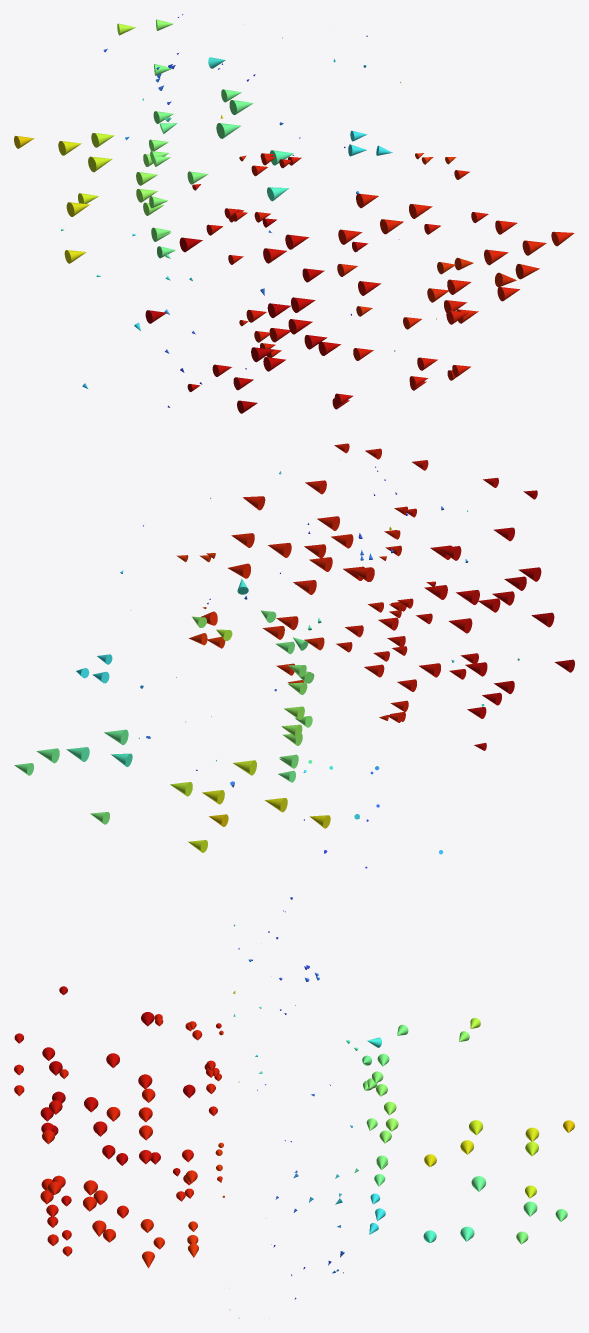
File: LineasCorrienteH2-O2_mh2-5.58_V-1.glb
3 renders of one model, top to bottom at view 1: azimuth 30°, elevation 25°; view 2: azimuth 150°, elevation 25°; view 3: azimuth 270°, elevation 25°, orthographic. The views are drawn at different scales.
Bounding box in the file's own units: 0.000903 × 0.00087 × 0.00123.
2 materials, 2 textured.
